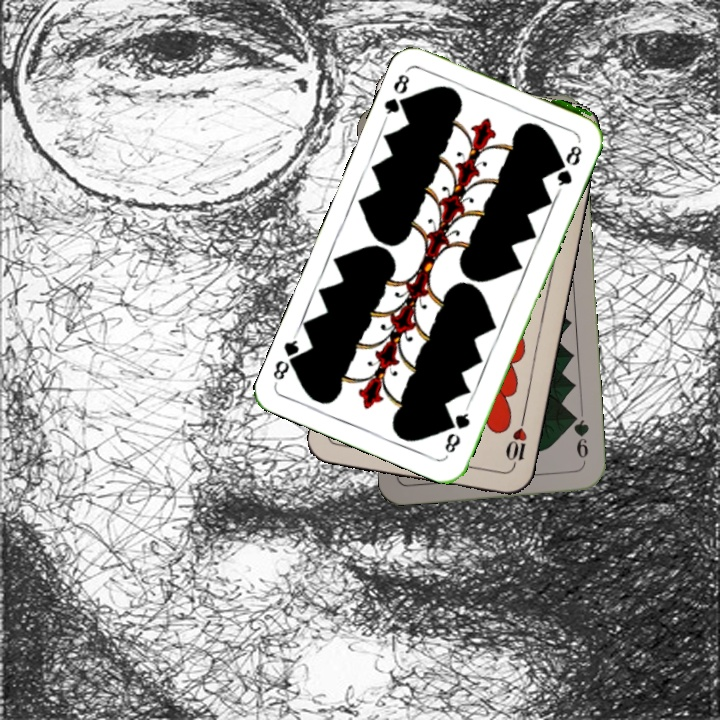G8: (379, 63, 415, 117), (440, 402, 473, 456)
G9: (567, 409, 592, 468)
H10: (501, 413, 530, 472)
